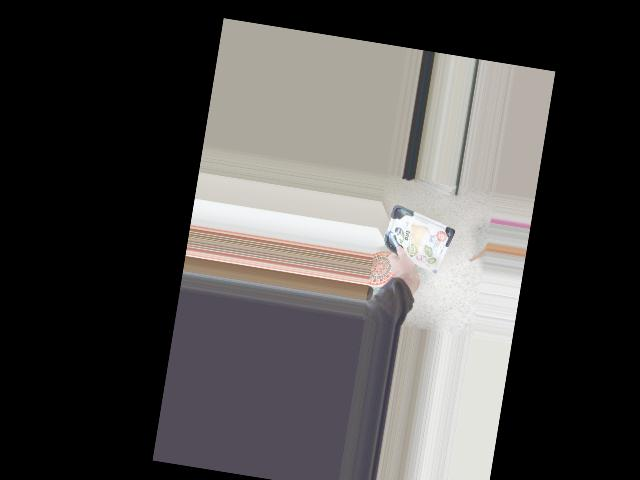cheese: (379, 203, 454, 274)
